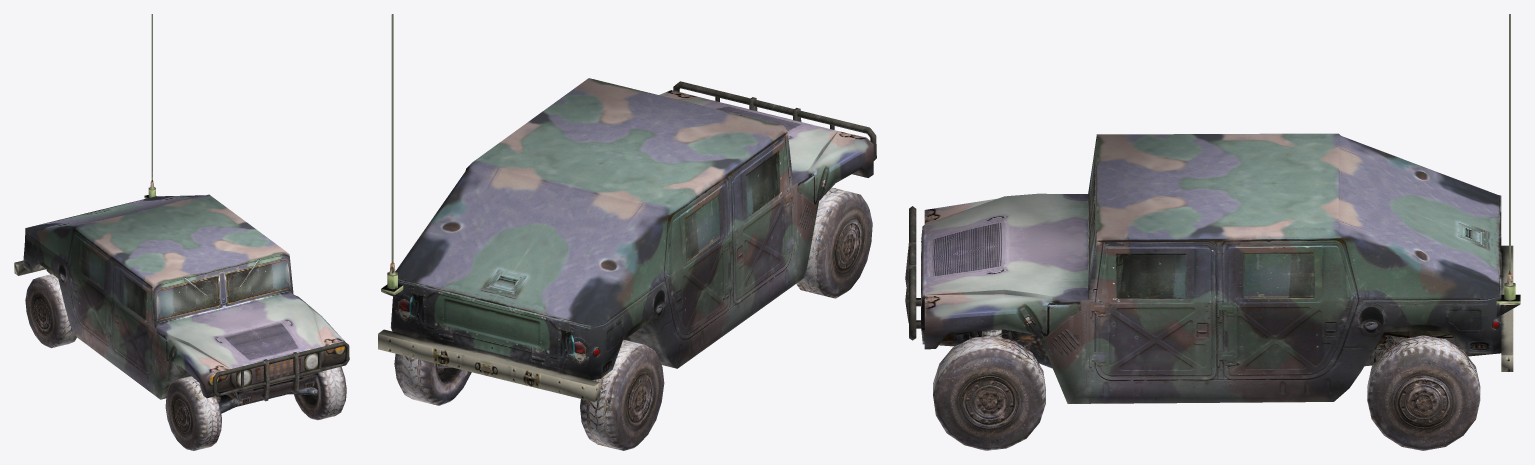
File: Low_Poly_Humvee_vehicle.glb
3 views of the same model, side by side, from view 1: azimuth 30°, elevation 25°; view 2: azimuth 150°, elevation 25°; view 3: azimuth 270°, elevation 25° (orthographic). The views are drawn at different scales.
Visible parts, largest first — view 1: Body_Vehicle_Material_0, FR_Wheel_Vehicle_Material_0, BR_Wheel_Vehicle_Material_0, FL_Wheel_Vehicle_Material_0, F_Suspension_Vehicle_Material_0; view 2: Body_Vehicle_Material_0, BR_Wheel_Vehicle_Material_0, FR_Wheel_Vehicle_Material_0, BL_Wheel_Vehicle_Material_0; view 3: Body_Vehicle_Material_0, FL_Wheel_Vehicle_Material_0, BL_Wheel_Vehicle_Material_0.
Boxes of the visible parts, box(x1,y1,x2,y2) form: Body_Vehicle_Material_0: box(14, 14, 349, 403); FR_Wheel_Vehicle_Material_0: box(165, 376, 221, 450); BR_Wheel_Vehicle_Material_0: box(25, 274, 76, 348); FL_Wheel_Vehicle_Material_0: box(294, 366, 346, 420); F_Suspension_Vehicle_Material_0: box(217, 386, 317, 413); Body_Vehicle_Material_0: box(378, 14, 876, 401); BR_Wheel_Vehicle_Material_0: box(580, 340, 664, 450); FR_Wheel_Vehicle_Material_0: box(796, 187, 872, 298); BL_Wheel_Vehicle_Material_0: box(394, 354, 471, 405); Body_Vehicle_Material_0: box(905, 14, 1520, 403); FL_Wheel_Vehicle_Material_0: box(933, 335, 1045, 450); BL_Wheel_Vehicle_Material_0: box(1367, 335, 1480, 450).
Bounding box in the file's own units: 1.47 × 2.64 × 3.41.
1 material, 1 textured.
